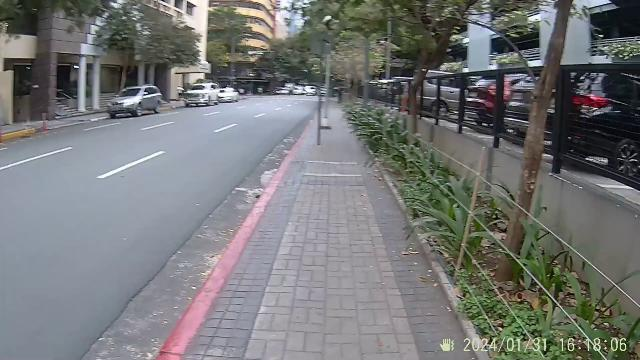car: (103, 82, 165, 118)
